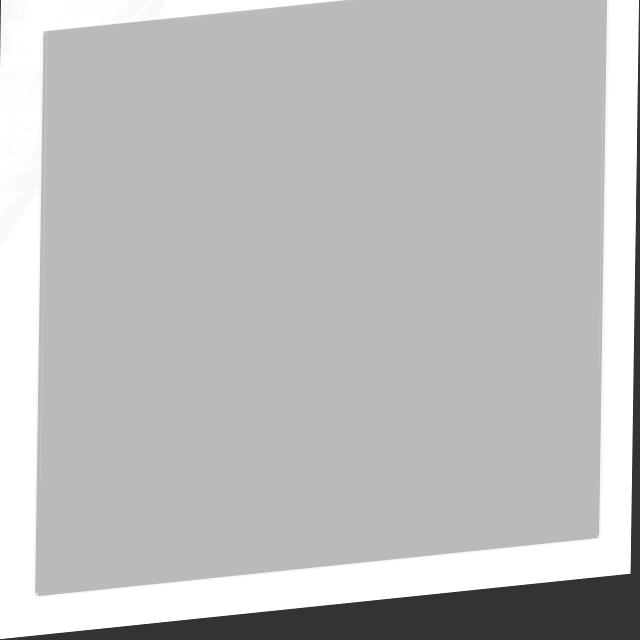qr_code: (36, 0, 607, 597)
